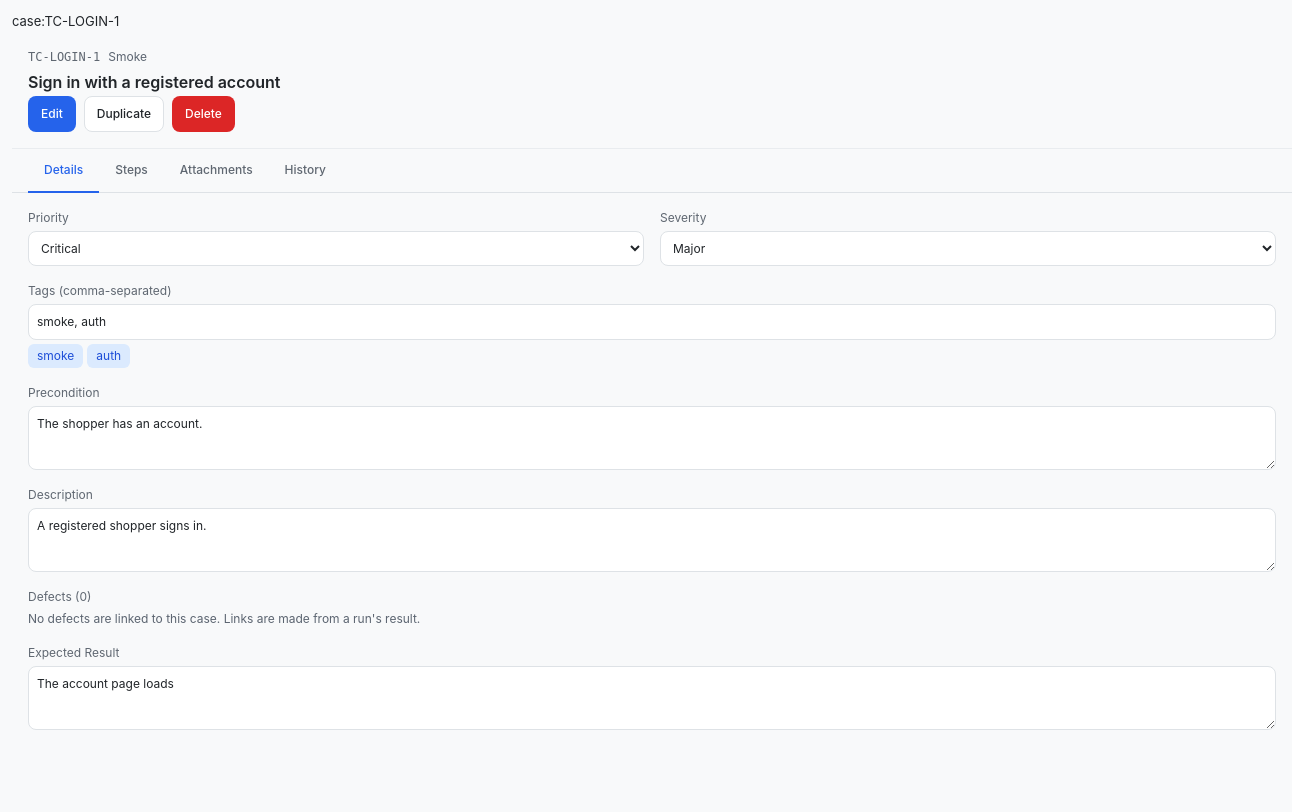
Test: CaseDetail › edits a step in place
The image size is (1292, 812).
Expected: the heading "Sign in with a registered account" is shown, x1=28 y1=72 x2=280 y2=92
Click the tab "Steps" at (132, 170), box x1=99 y1=148 x2=164 y2=192
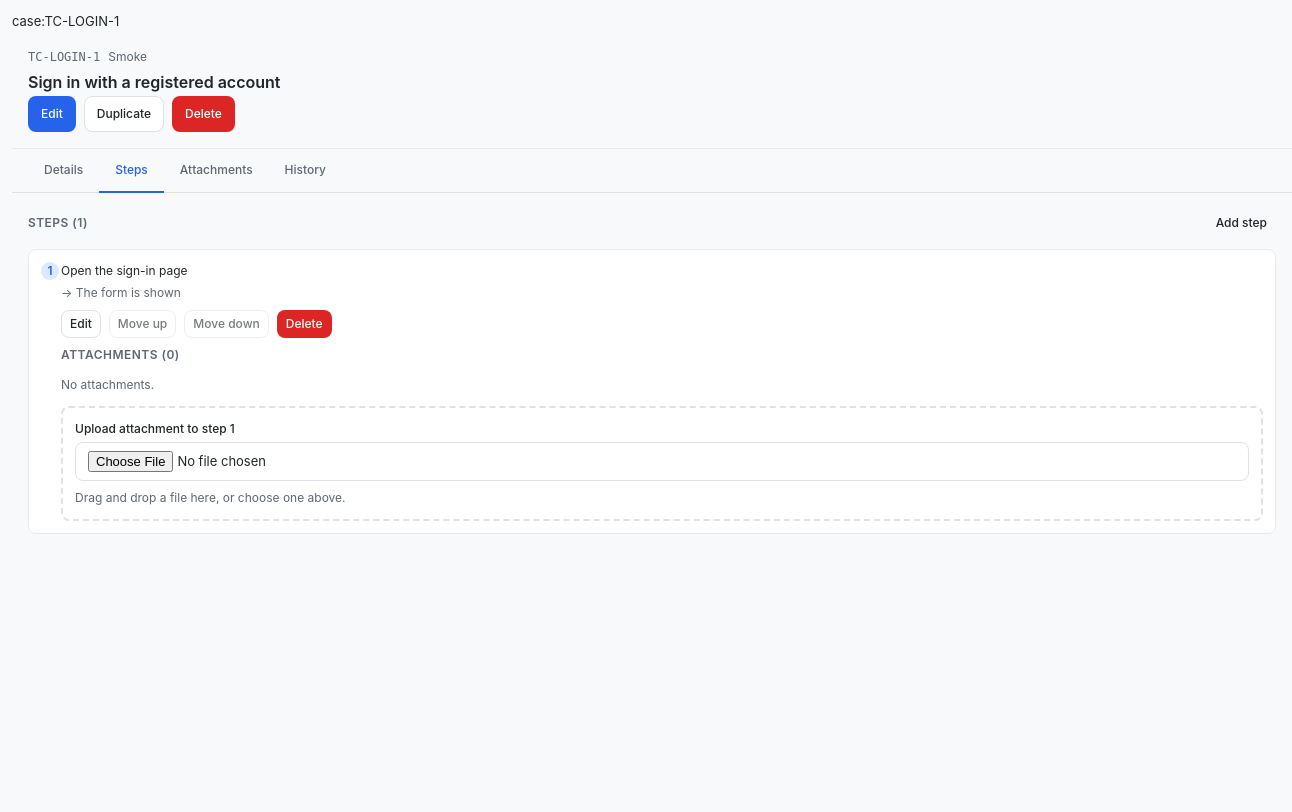
Click the button with aria-label "Edit step 1" at (81, 324), box x1=61 y1=310 x2=101 y2=338
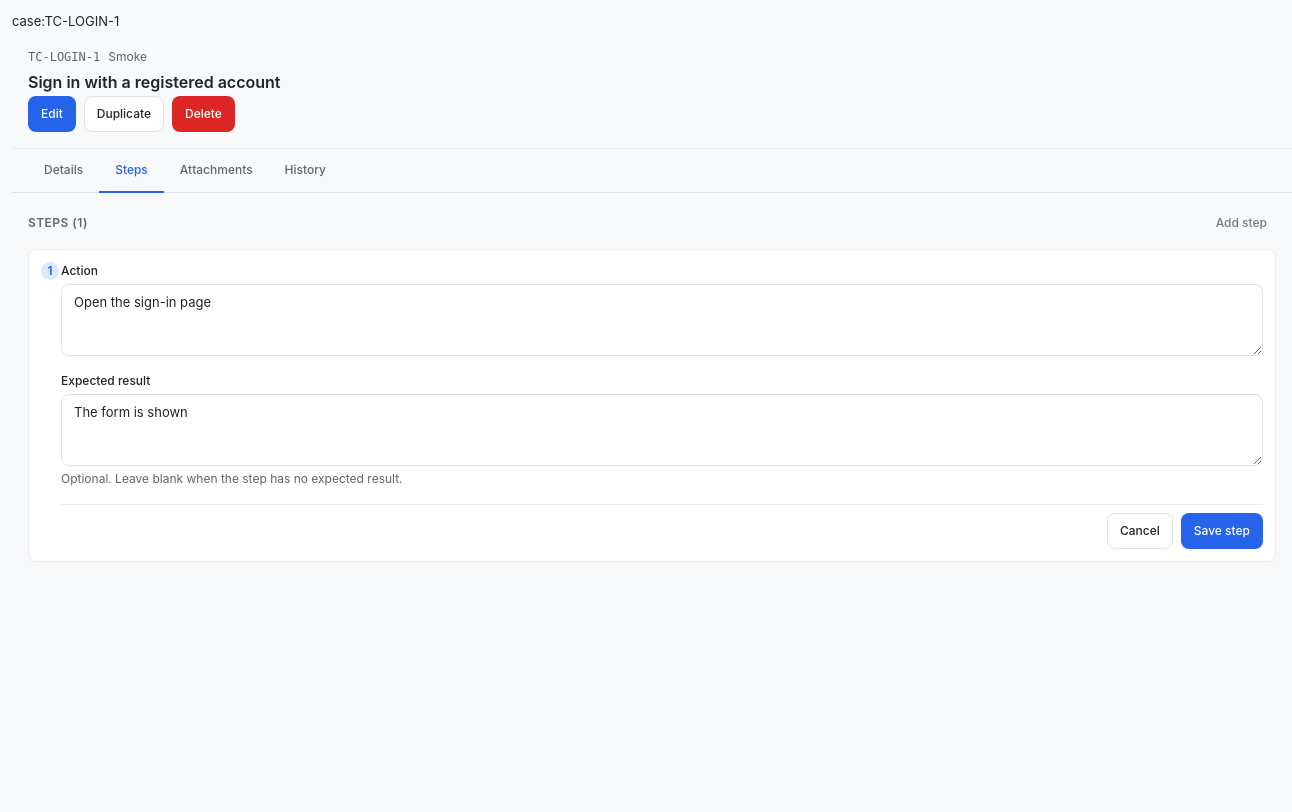
Now the text box labelled "Action" holds "Open the sign-in page", box x1=61 y1=284 x2=1263 y2=356
Now the text box labelled "Expected result" holds "The form is shown"
Replace the text in the text box labelled "Expected result" with "The sign-in form is shown" at (662, 430), box x1=61 y1=394 x2=1263 y2=466
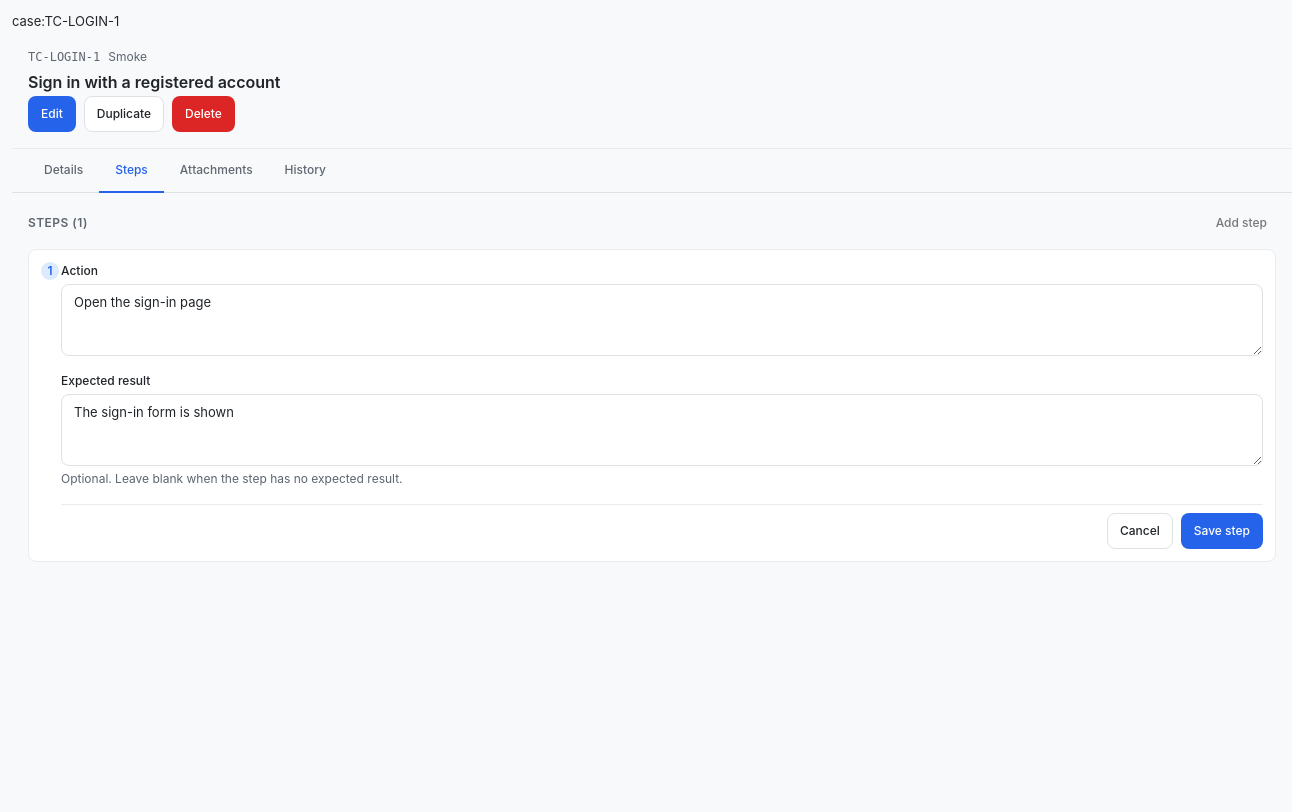
Submit the form named "Edit step form", box x1=61 y1=262 x2=1263 y2=548
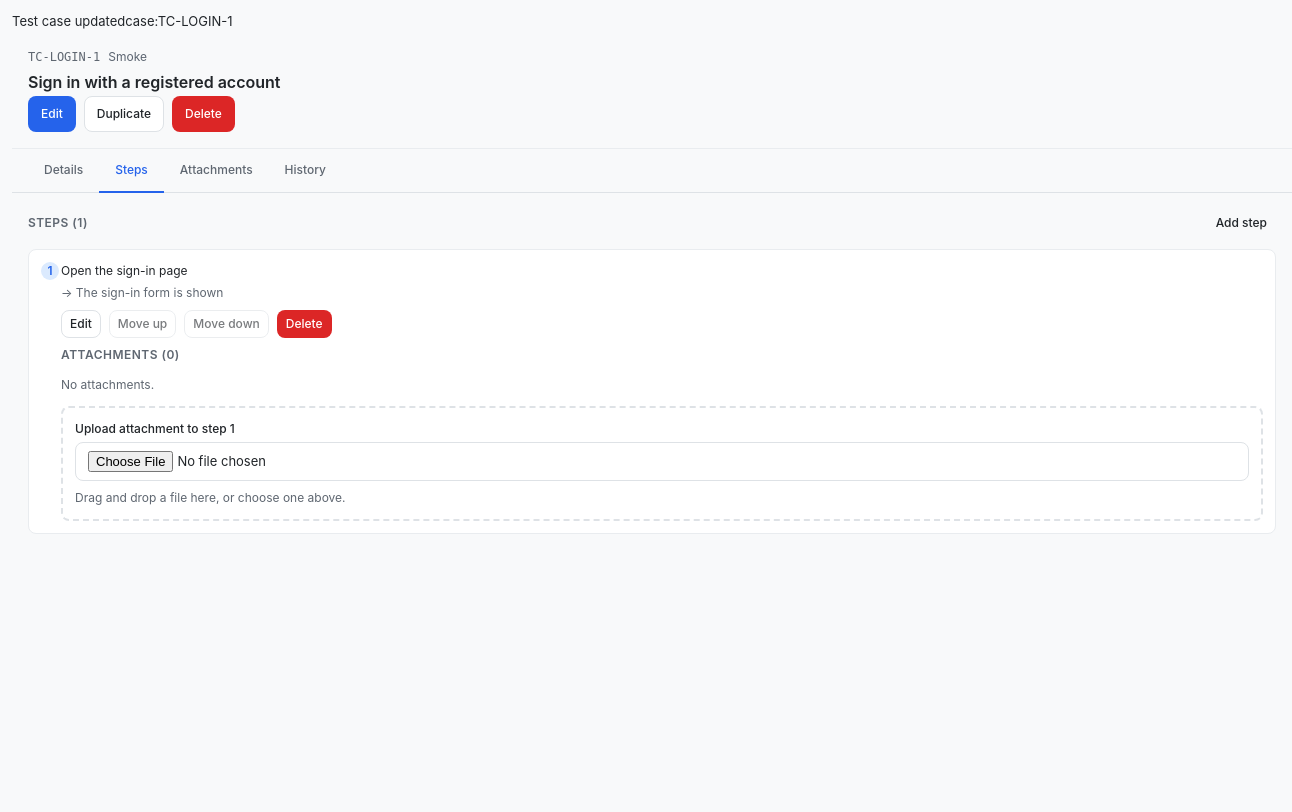
Now the form "Edit step form" is gone
Now the text "→ The sign-in form is shown" is shown, box x1=61 y1=284 x2=223 y2=300
